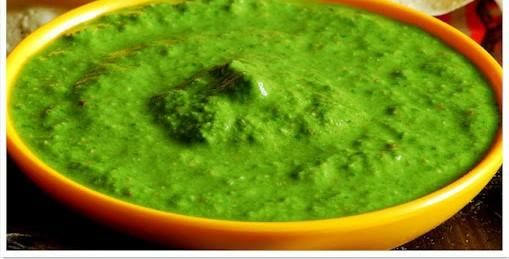GreenChutney: (10, 2, 499, 221)
